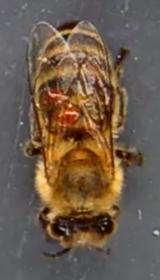varroa_mite: (48, 102, 85, 128)
